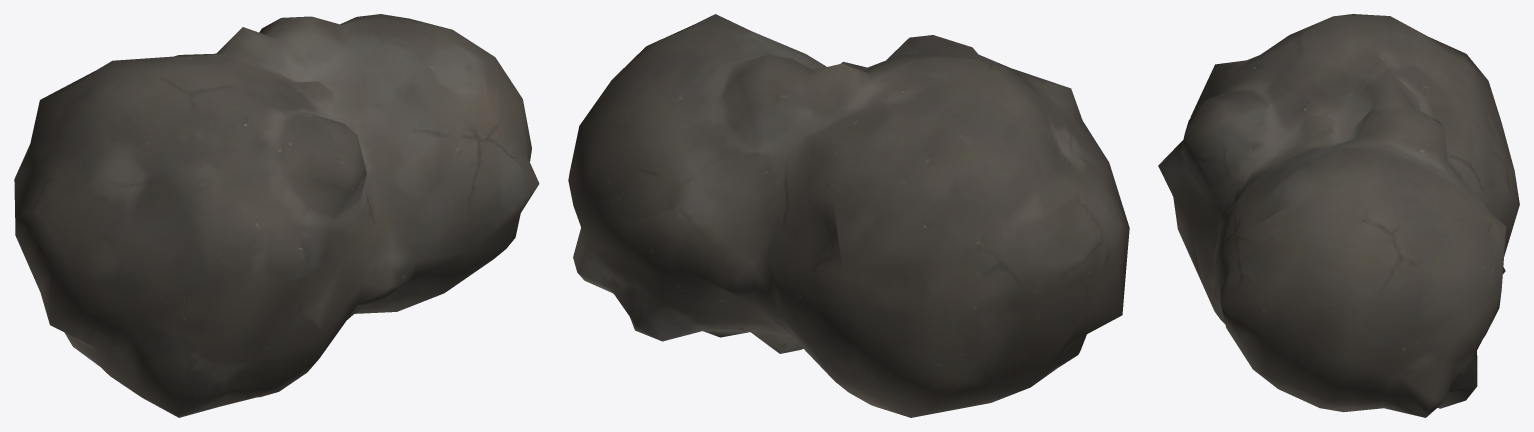
Rendered from asteroid_2.glb.
3 renders of one model, left to right at view 1: azimuth 30°, elevation 25°; view 2: azimuth 150°, elevation 25°; view 3: azimuth 270°, elevation 25°, orthographic. The views are drawn at different scales.
Visible parts, largest first — view 1: lod0; view 2: lod0; view 3: lod0.
Boxes of the visible parts, x1=… form: lod0: x1=14, y1=14, x2=539, y2=417; lod0: x1=568, y1=14, x2=1129, y2=417; lod0: x1=1158, y1=14, x2=1519, y2=417.
Size of what is drawn, in the model's own units: 8 by 5.09 by 5.34.
Materials: 1 (1 with a texture image).
